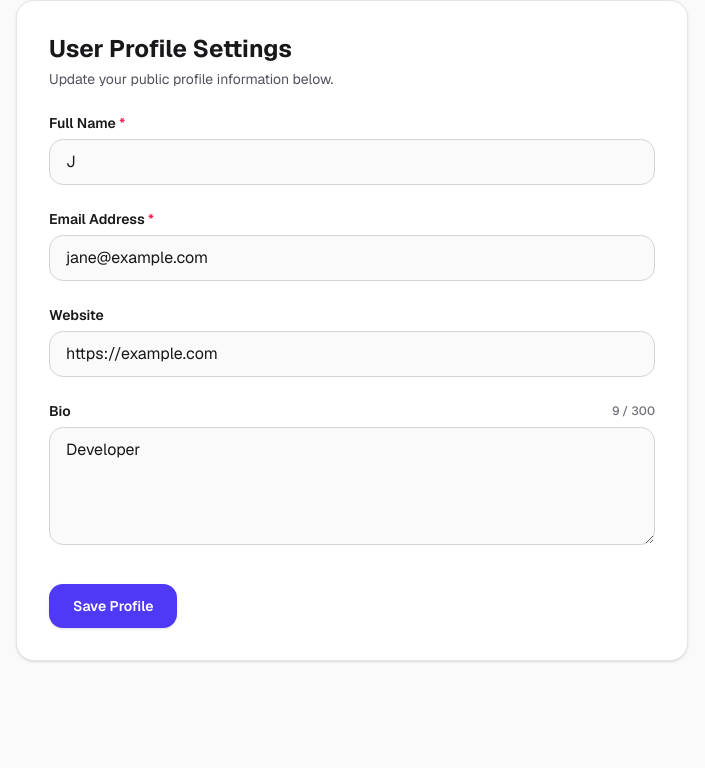
ProfileForm Component UI & Accessibility Tests › (2) a name under 2 characters shows the min-length error
Click the button "Save Profile": [113, 606] box [49,584,178,628]
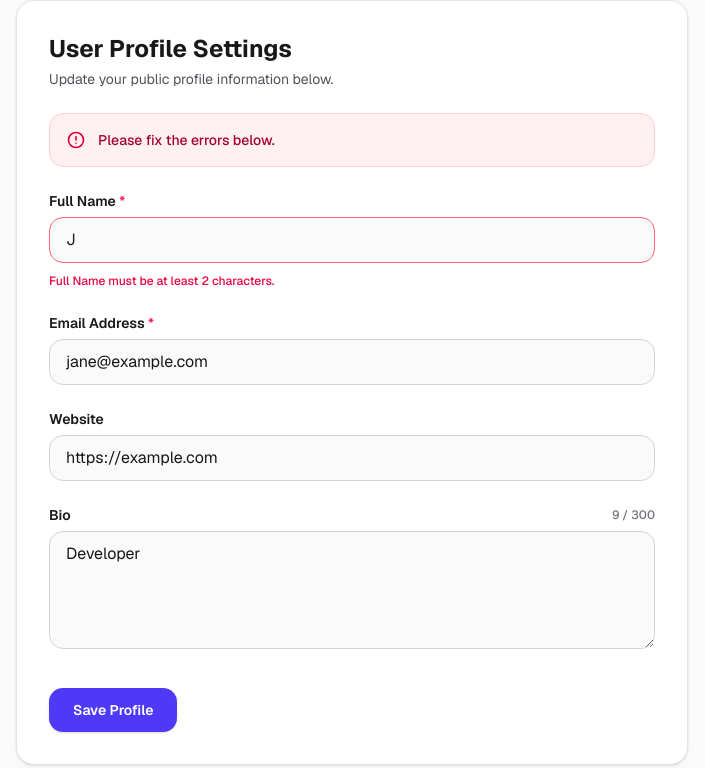
Result: the text "Full Name must be at least 2 characters." is shown at [49,273,274,289]
